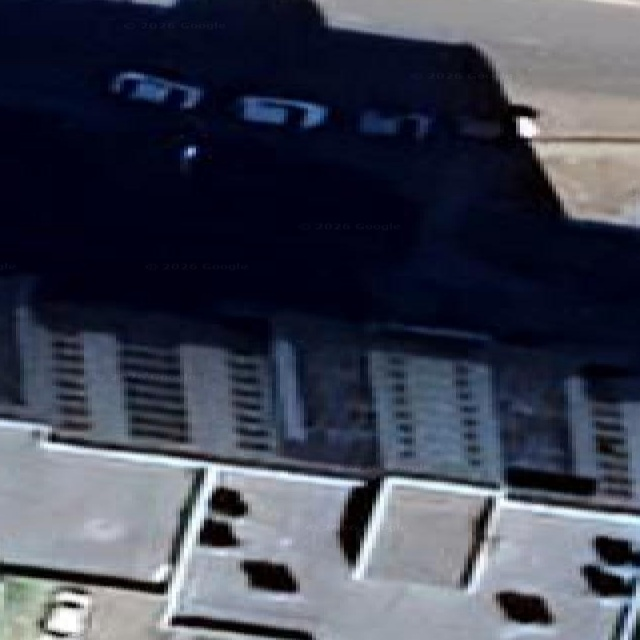car: (40, 588, 91, 639)
